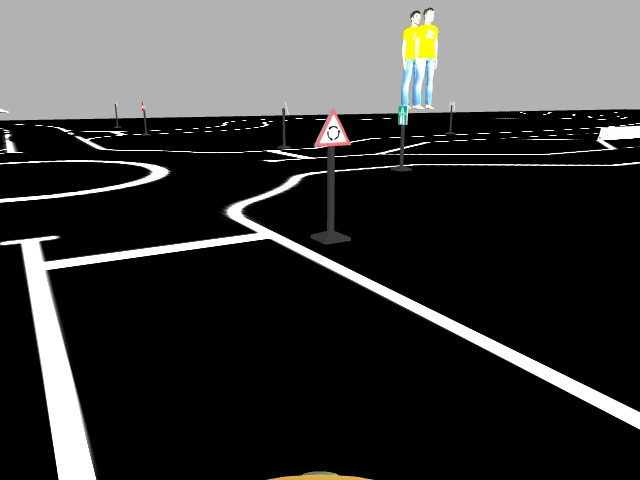HighwayEntrance: (394, 103, 411, 128)
Roundabout: (308, 107, 352, 149)
